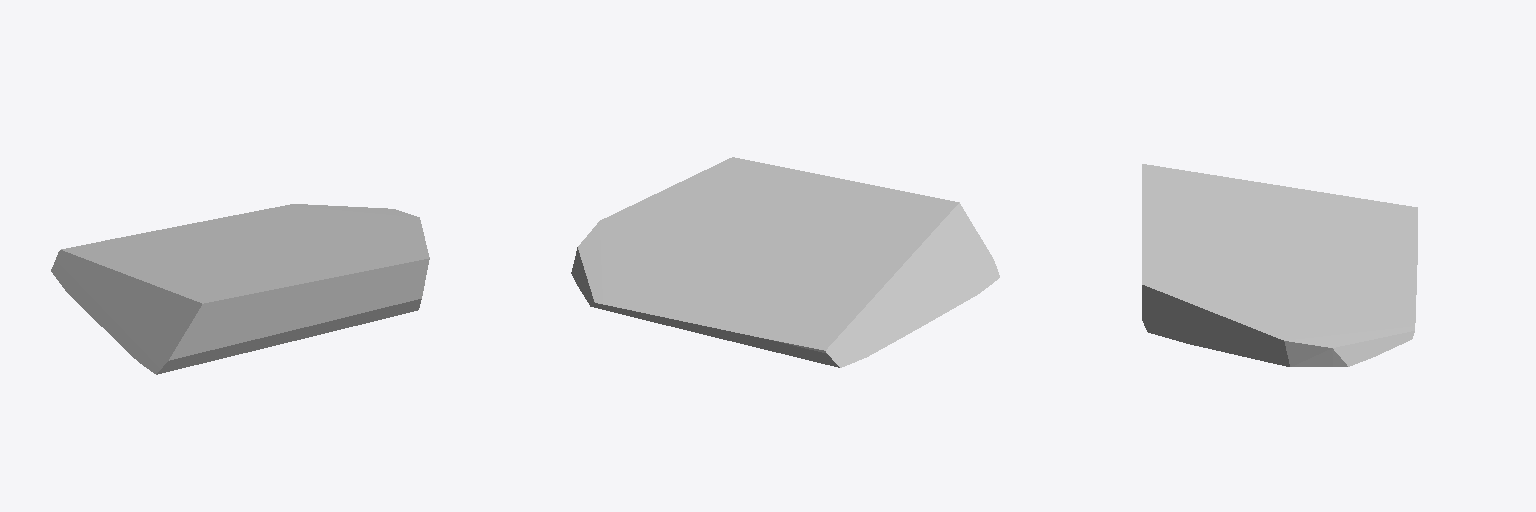
File: torii_broken_017.obj
3 renders of one model, left to right at view 1: azimuth 30°, elevation 25°; view 2: azimuth 150°, elevation 25°; view 3: azimuth 270°, elevation 25°, orthographic.
Visible parts, largest first — view 1: 鳥居.001_cell.017_鳥居.001_cell.007; view 2: 鳥居.001_cell.017_鳥居.001_cell.007; view 3: 鳥居.001_cell.017_鳥居.001_cell.007.
Part boxes in pixels (bbox=[...]): 鳥居.001_cell.017_鳥居.001_cell.007: bbox=[51, 204, 429, 374]; 鳥居.001_cell.017_鳥居.001_cell.007: bbox=[571, 157, 999, 367]; 鳥居.001_cell.017_鳥居.001_cell.007: bbox=[1142, 164, 1417, 366].
Bounding box in the file's own units: 0.5973 × 0.1124 × 0.431.